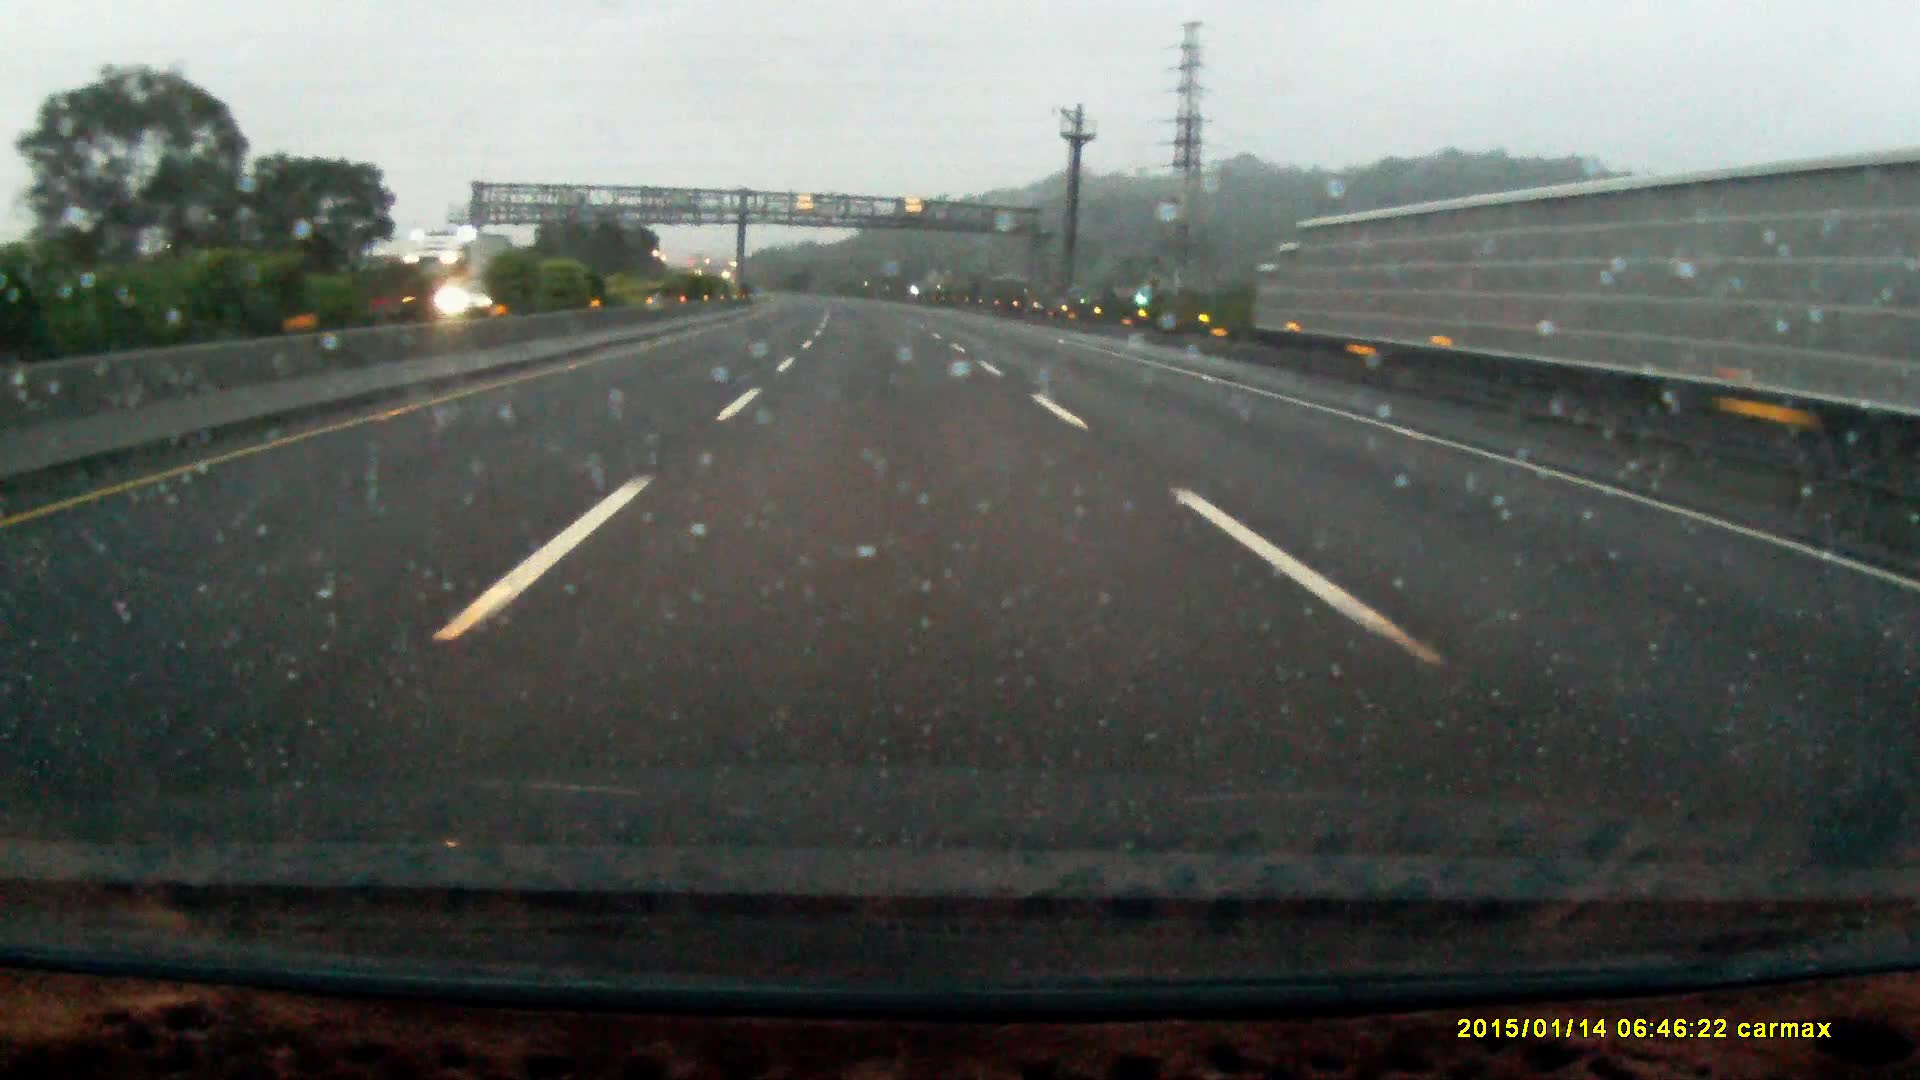vehicle: (402, 236, 513, 323), (436, 277, 524, 316)
